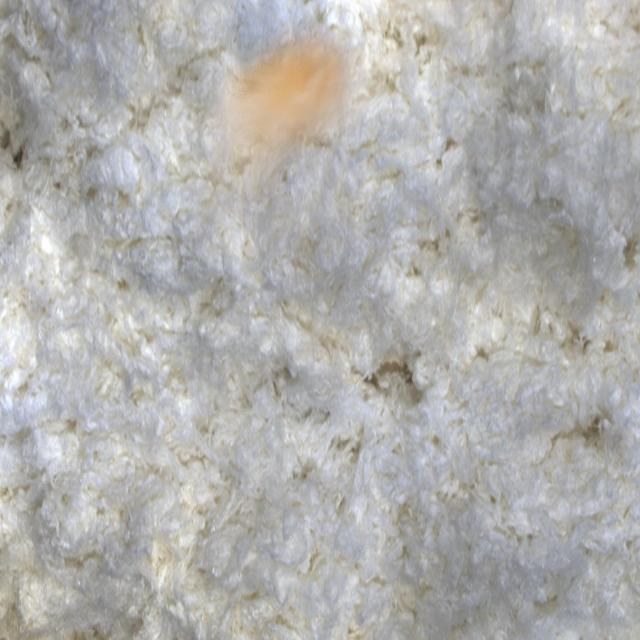dust: (194, 22, 387, 255)
